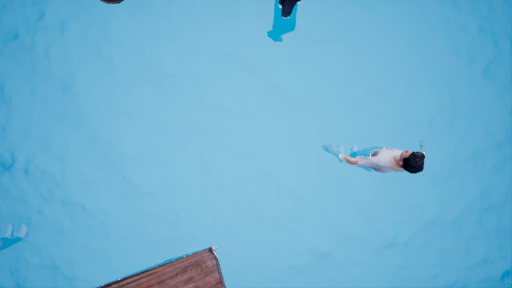person: (328, 138, 440, 180)
